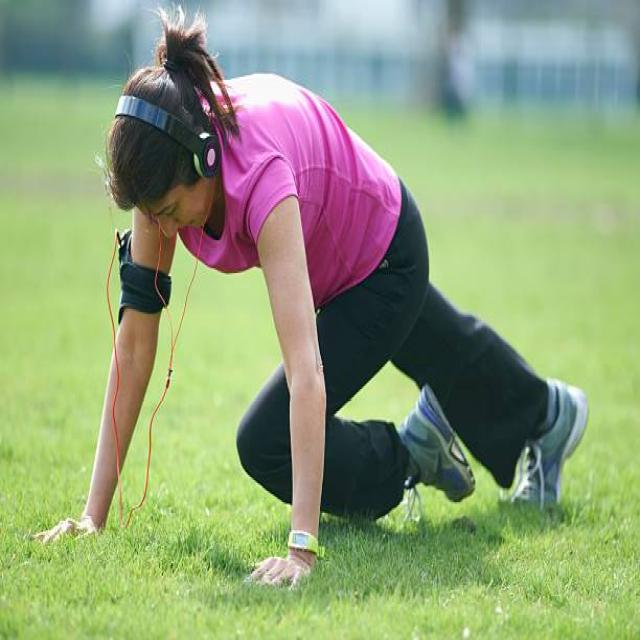Headphone: (114, 94, 224, 180)
